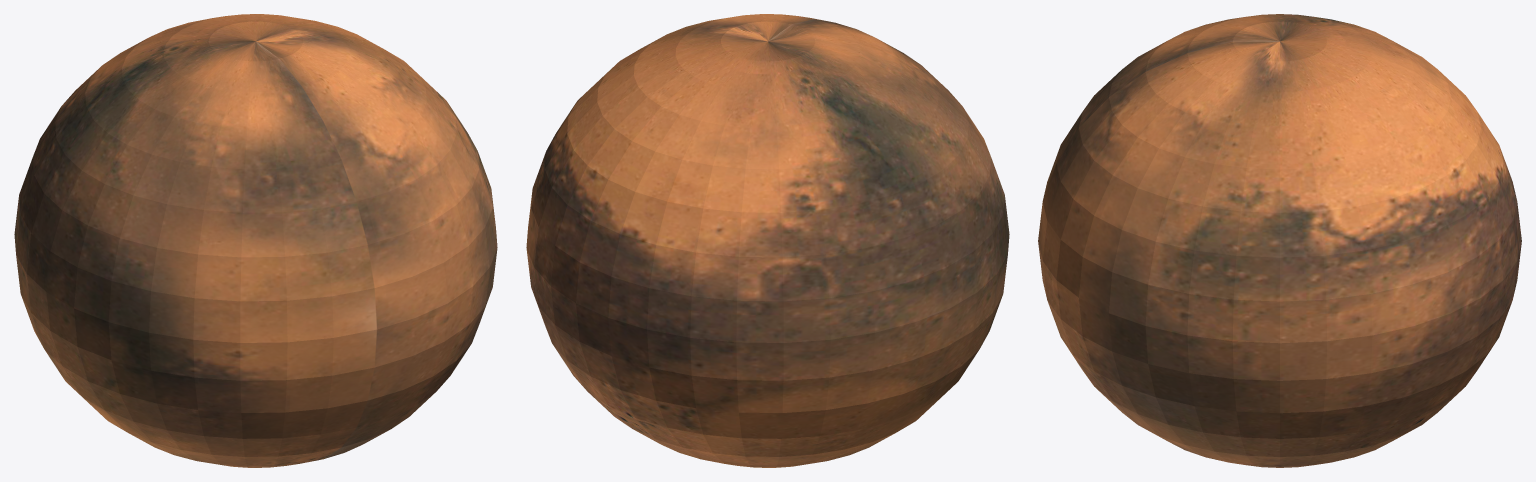
The model's file is mars.obj.
The picture shows the model from 3 angles, left to right: view 1: azimuth 30°, elevation 25°; view 2: azimuth 150°, elevation 25°; view 3: azimuth 270°, elevation 25°; orthographic projection.
Visible parts, largest first — view 1: Sphere_Sphere.001; view 2: Sphere_Sphere.001; view 3: Sphere_Sphere.001.
Boxes of the visible parts, x1,y1,x2,y2 form: Sphere_Sphere.001: (14, 14, 497, 467); Sphere_Sphere.001: (526, 14, 1009, 467); Sphere_Sphere.001: (1038, 14, 1521, 467).
Bounding box in the file's own units: 2 × 1.82 × 2.
1 material, 1 textured.
